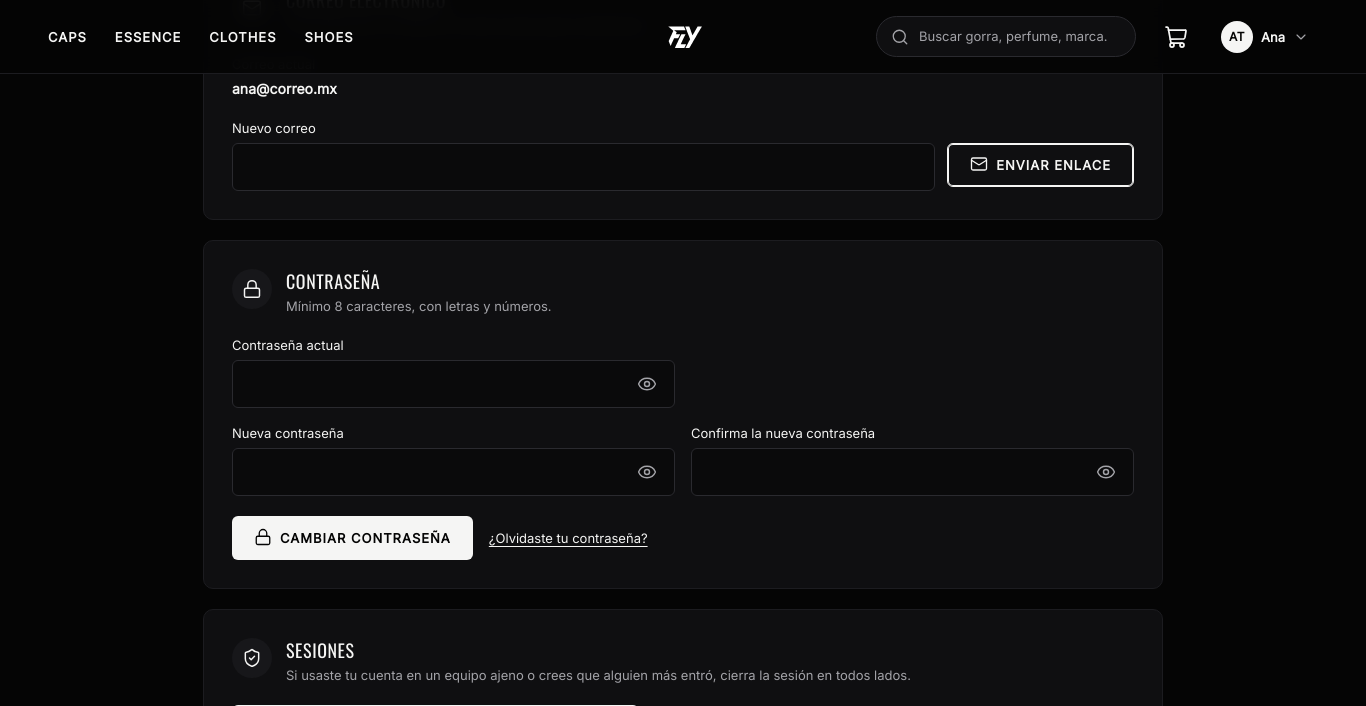
it: Mi perfil › Seguridad: cambia la contraseña validando antes de enviar
The image size is (1366, 706).
(page scrolled)
Type "Actual123" into the password field labelled "Contraseña actual" at (454, 384), box [232,360,675,408]
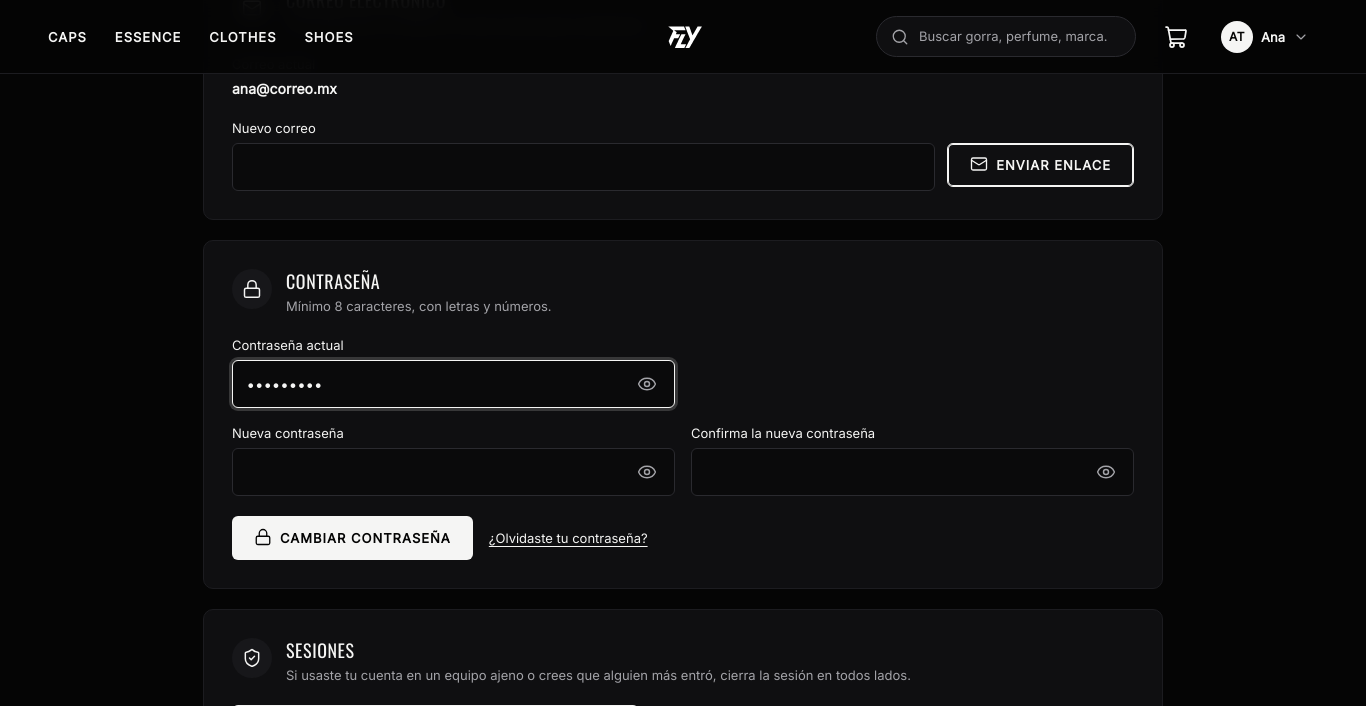
Type "corta" into the password field labelled "Nueva contraseña" at (454, 472), box [232,448,675,496]
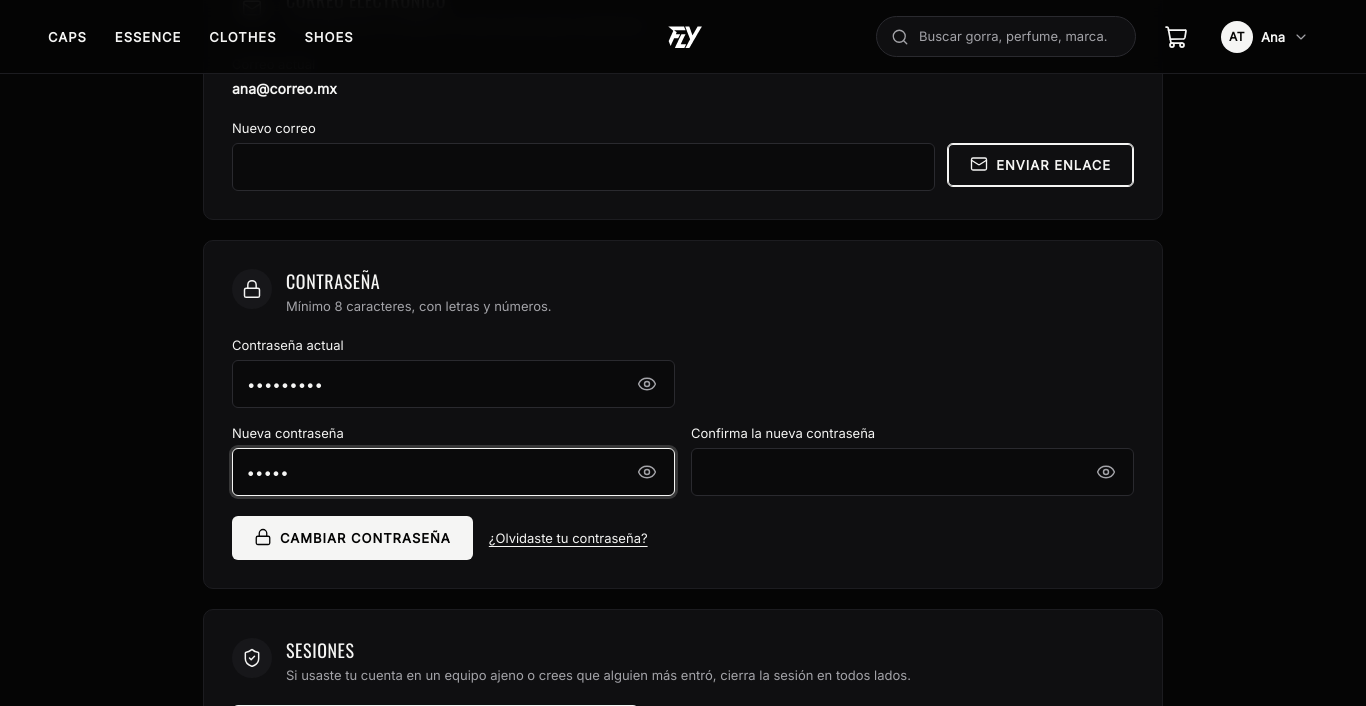
Click the button "Cambiar contraseña" at (352, 538), box [232,516,473,560]
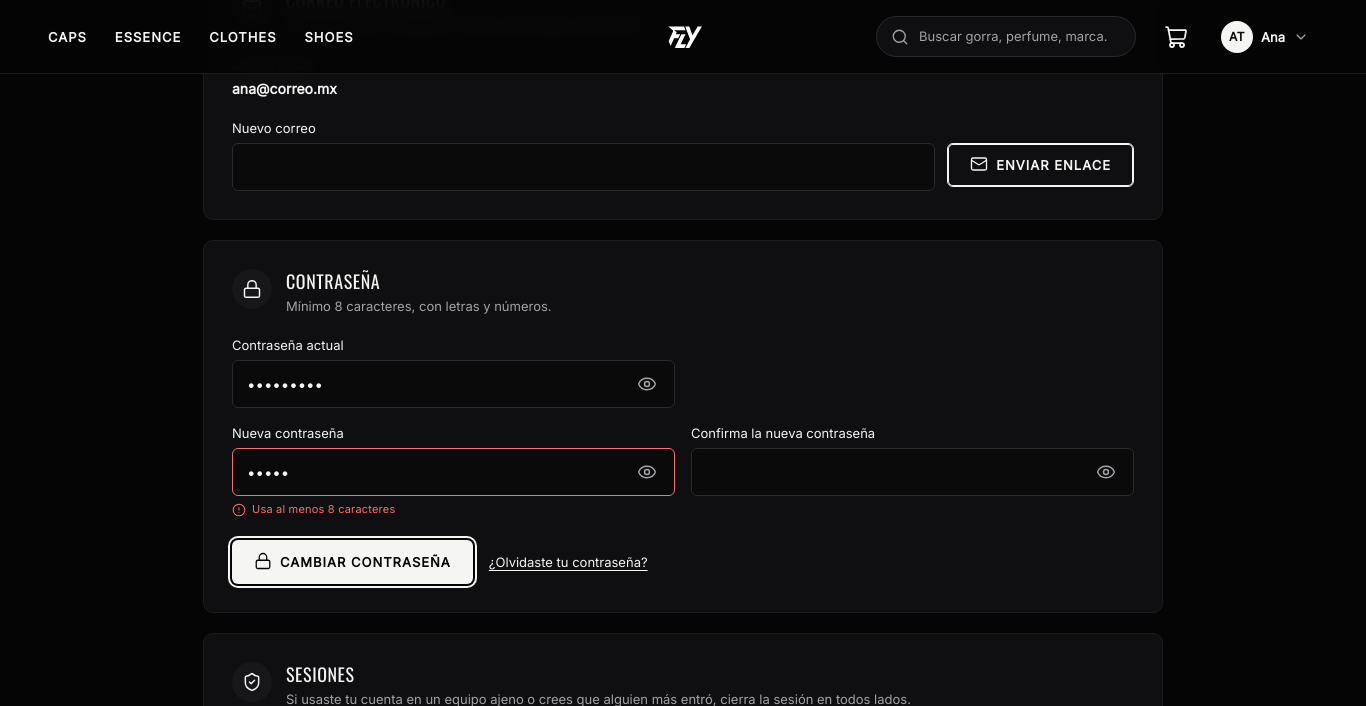
Expected: the text "Usa al menos 8 caracteres" is shown, [232,502,395,517]
